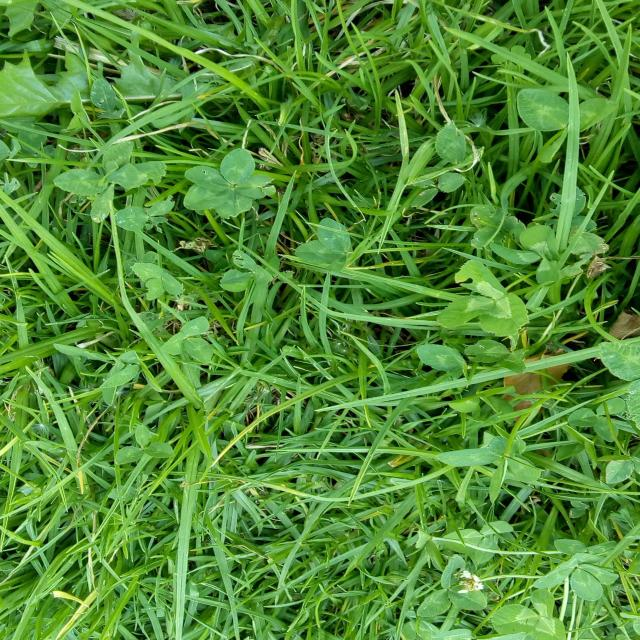Four Leaf Clover: (53, 141, 138, 223), (183, 147, 274, 219)
